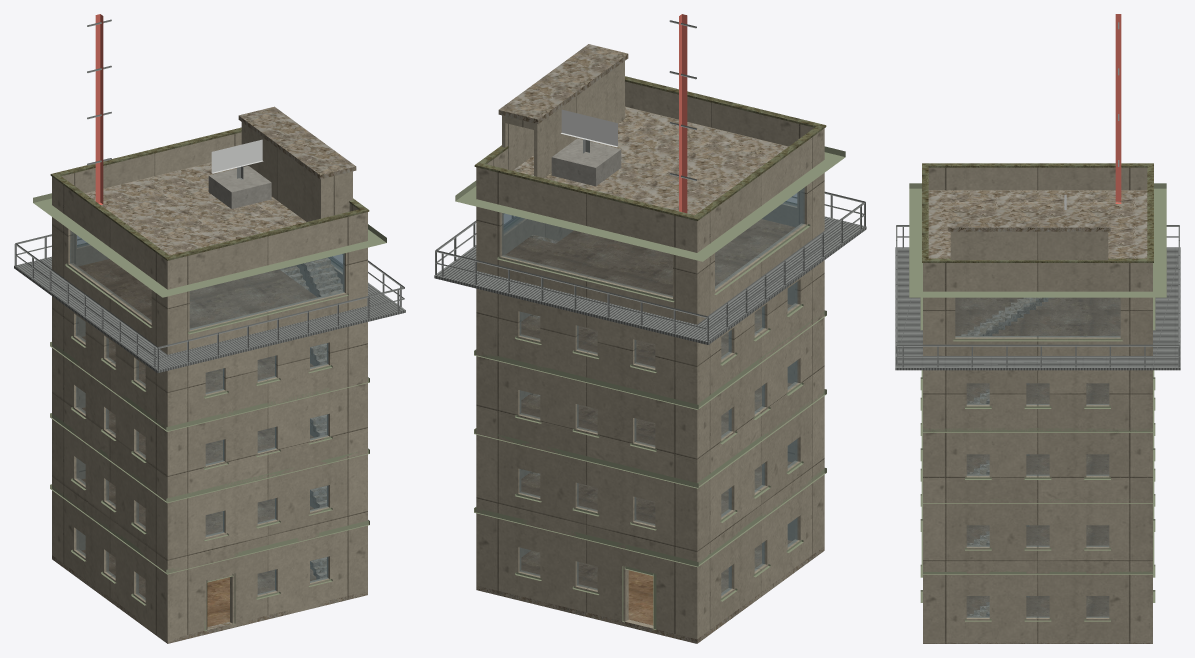
The model's file is mb-ops-tower.garrison-v1.lod0.glb.
3 renders of one model, left to right at view 1: azimuth 30°, elevation 25°; view 2: azimuth 150°, elevation 25°; view 3: azimuth 270°, elevation 25°, orthographic. The views are drawn at different scales.
Visible parts, largest first — view 1: mb-ops-tower; view 2: mb-ops-tower; view 3: mb-ops-tower.
Part boxes in pixels (left/top/right/bottom): mb-ops-tower: left=14, top=14, right=405, bottom=643; mb-ops-tower: left=434, top=14, right=866, bottom=643; mb-ops-tower: left=895, top=14, right=1180, bottom=643.
Bounding box in the file's own units: 12.4 × 26.2 × 12.4.
6 materials, 4 textured.
